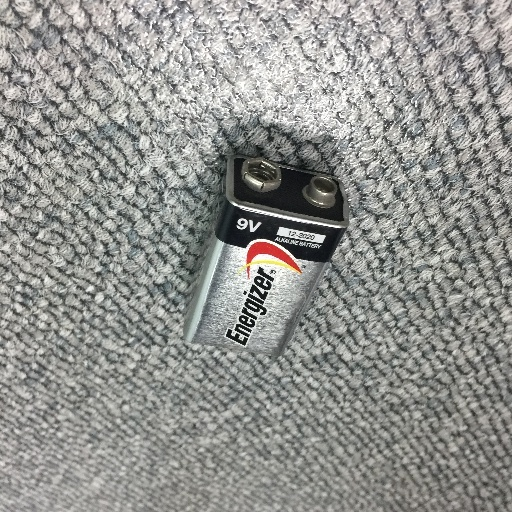Battery_3: (169, 130, 352, 379)
